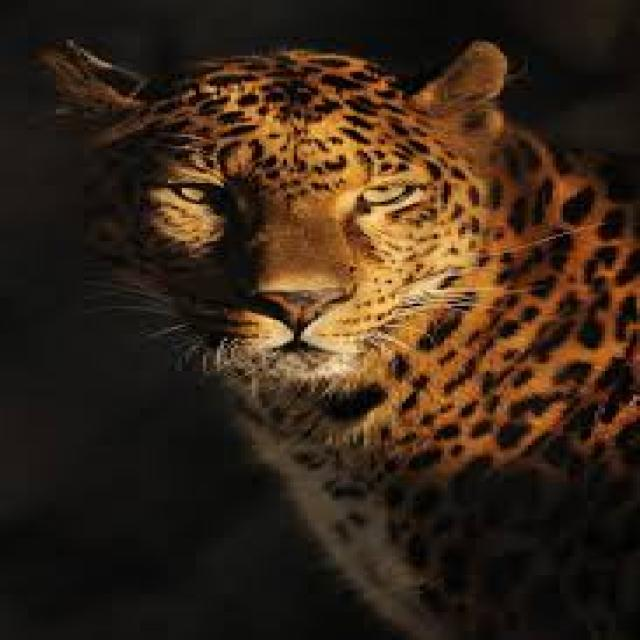Jaguar: (49, 32, 640, 636)
